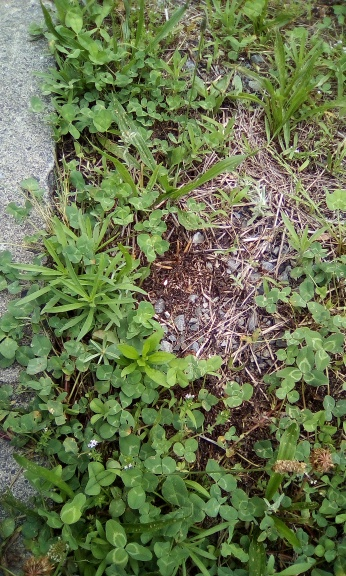4leaf: (136, 233, 170, 263)
